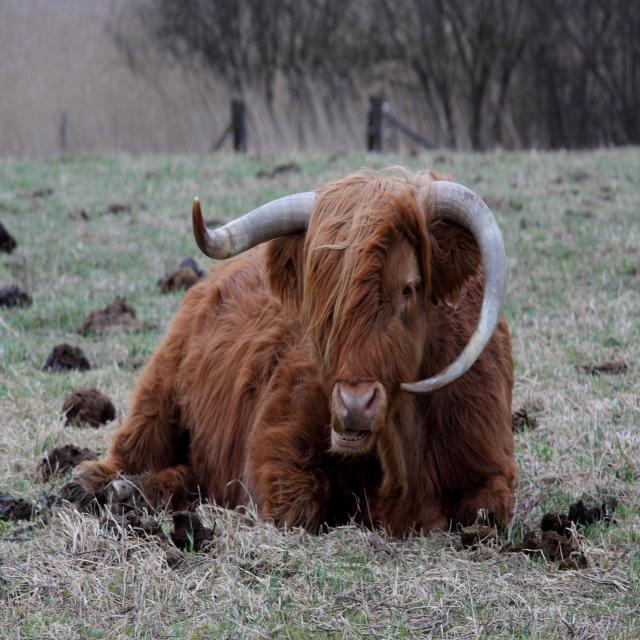cow: (79, 167, 516, 536)
